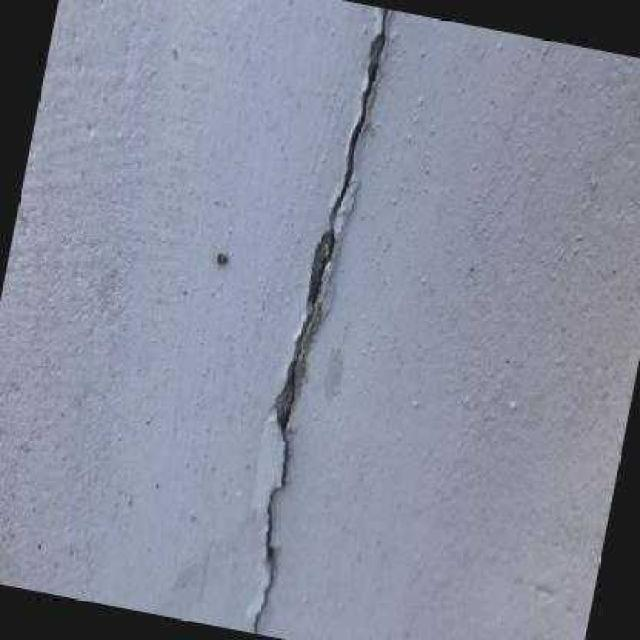D00: (251, 8, 386, 633)
